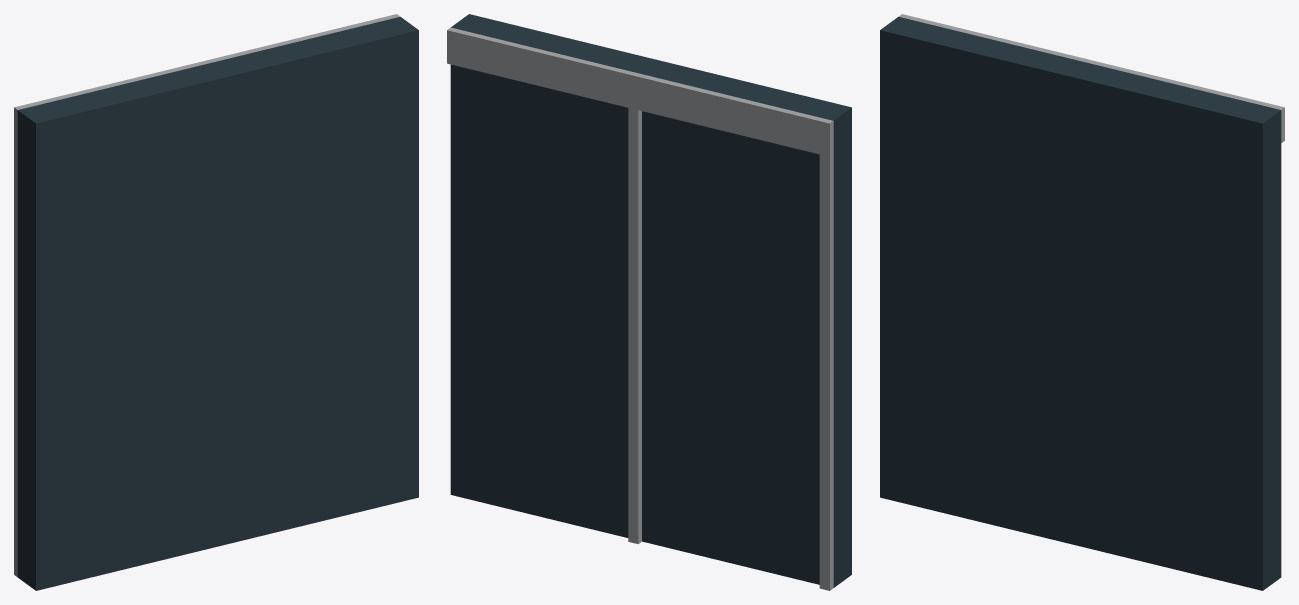
File: fk_curtain_u35.glb
The picture shows the model from 3 angles, left to right: view 1: azimuth 30°, elevation 25°; view 2: azimuth 150°, elevation 25°; view 3: azimuth 330°, elevation 25°; orthographic projection.
Parts seen in each view (by area): view 1: fk_curtain_u35-col; view 2: fk_curtain_u35-col; view 3: fk_curtain_u35-col.
Boxes of the visible parts, x1,y1,x2,y2 form: fk_curtain_u35-col: (14, 14, 418, 590); fk_curtain_u35-col: (447, 14, 851, 590); fk_curtain_u35-col: (880, 14, 1284, 590).
Bounding box in the file's own units: 3 × 3.5 × 0.3.
